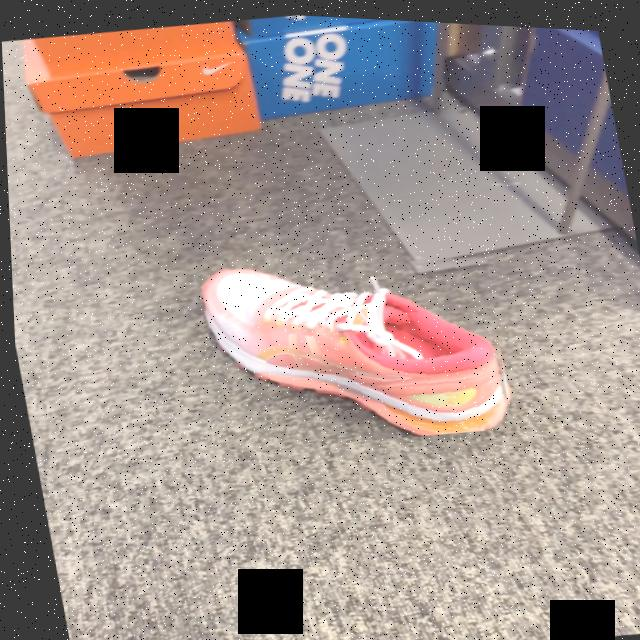shoe: (199, 266, 506, 432)
